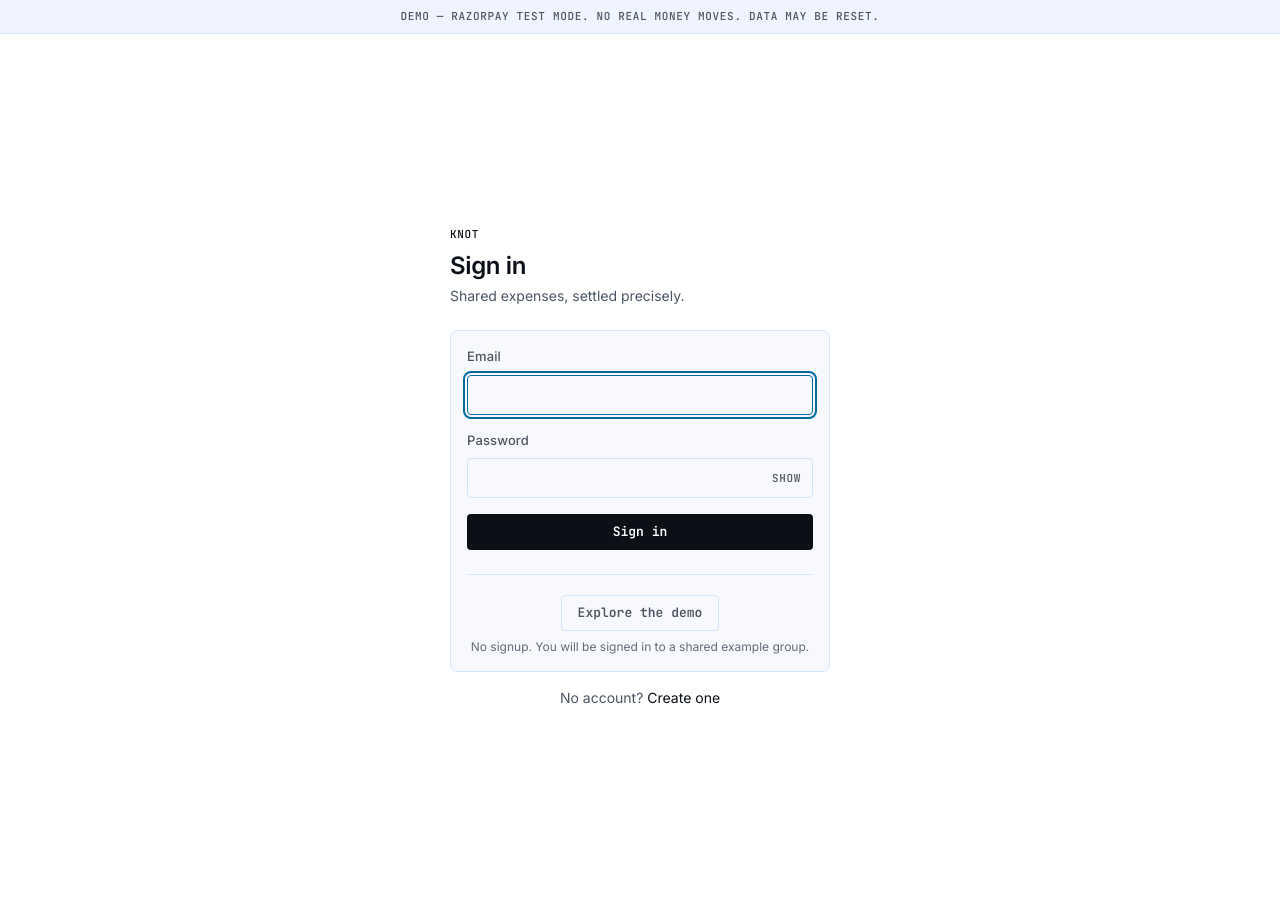
Scenario: LoginPage › does not let the demo and a sign-in run at once
Click the button "Explore the demo" at (640, 613), box [561,595,719,631]
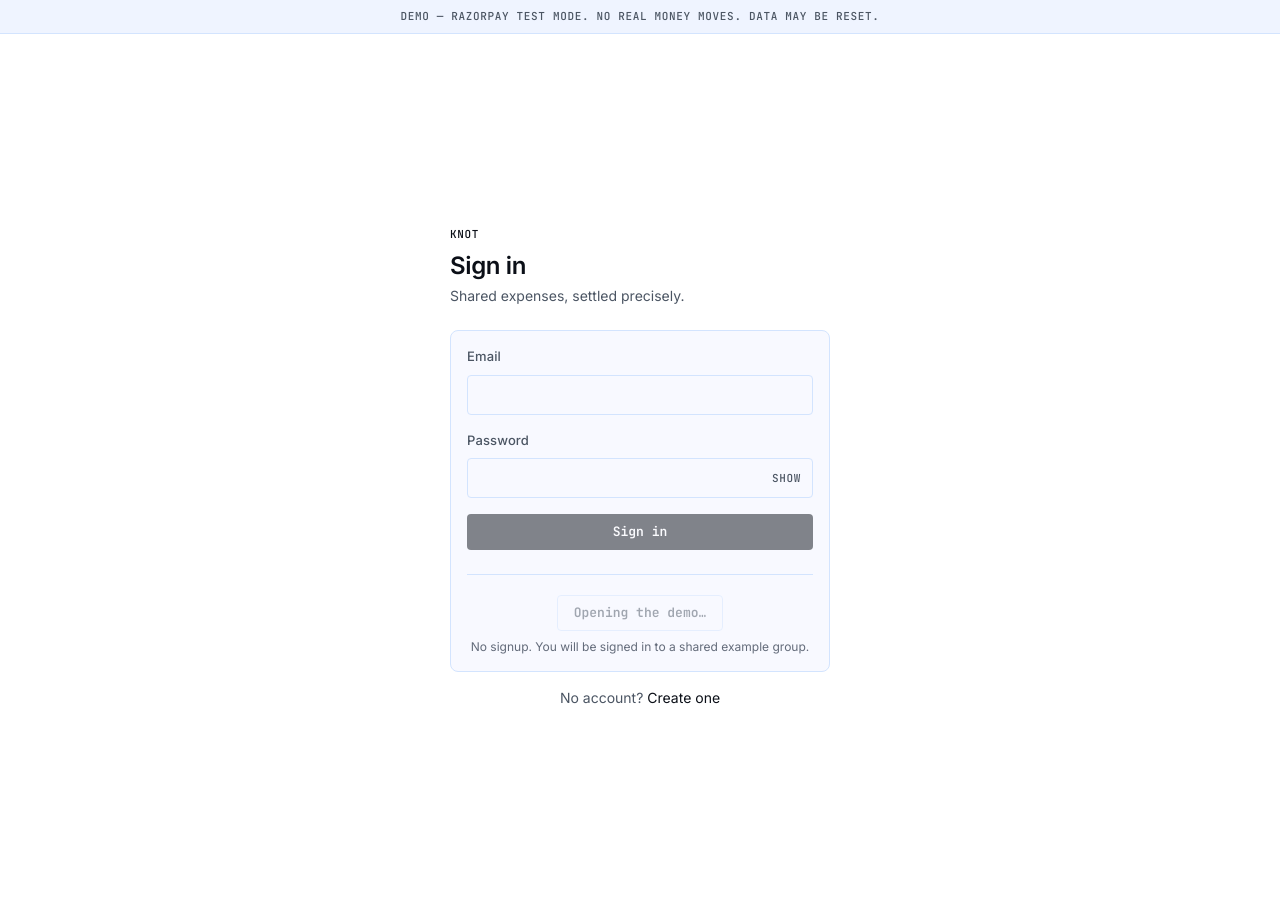
Expected: the button "Opening the demo…" is disabled, [557,595,723,631]
Expected: the button "Sign in" is disabled, [467,514,813,550]
